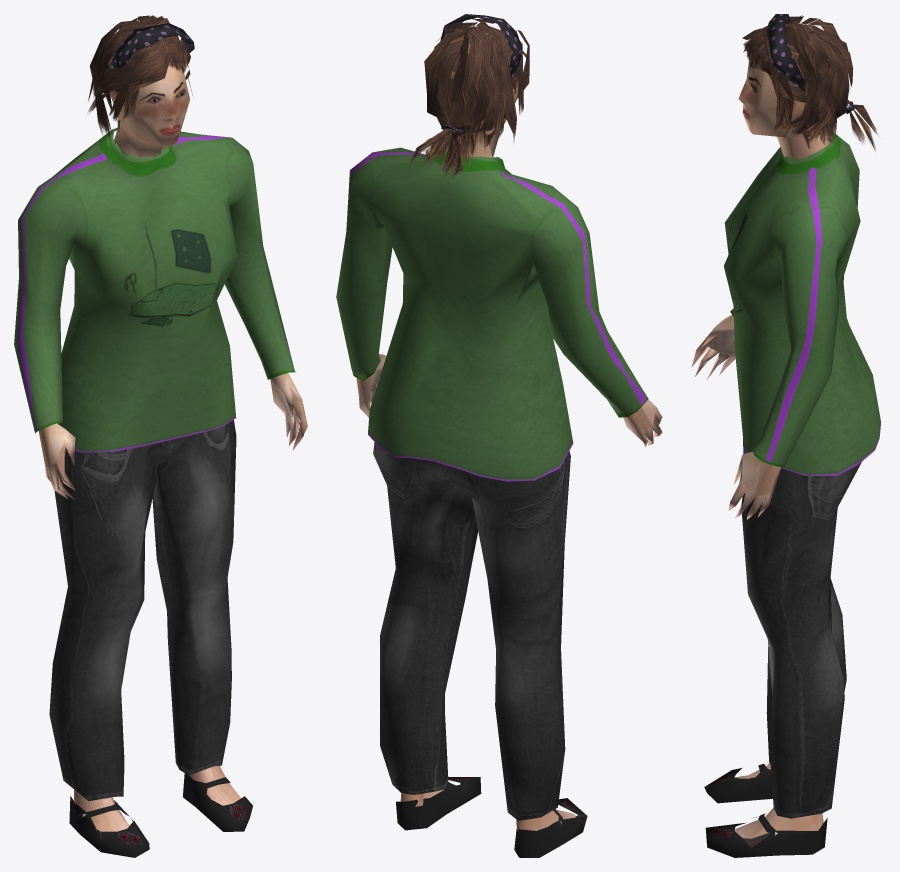
Rendered from woman-casual-cbj_LOD01.gltf.
The picture shows the model from 3 angles, left to right: view 1: azimuth 30°, elevation 25°; view 2: azimuth 150°, elevation 25°; view 3: azimuth 270°, elevation 25°; orthographic projection. The views are drawn at different scales.
Visible parts, largest first — view 1: trunk, legs, head, feet; view 2: trunk, legs, head, feet; view 3: trunk, legs, head, feet.
Part boxes in pixels (x1,y1,x2,y2): trunk: (14,128,307,499); legs: (49,420,236,801); head: (88,15,194,157); feet: (69,766,252,857); trunk: (336,147,662,481); legs: (373,442,570,820); head: (409,14,529,178); feet: (396,777,587,857); trunk: (691,132,881,519); legs: (741,440,861,818); head: (738,14,877,158); feet: (704,763,827,857).
Size of what is drawn, in the model's own units: 0.5818 by 1.62 by 0.3551.
